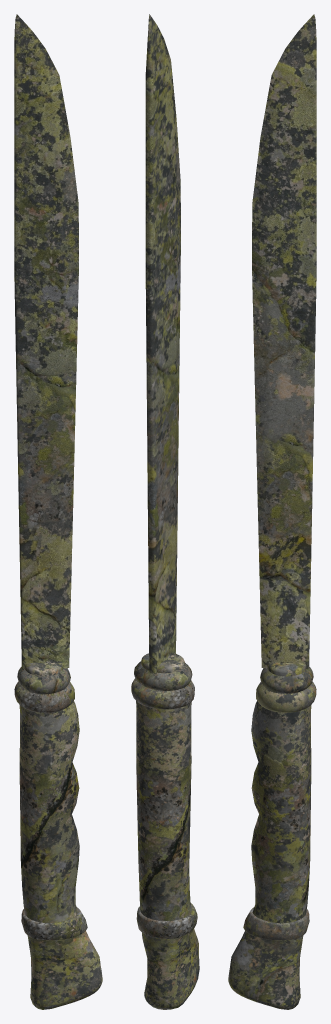
File: machete.gltf
3 renders of one model, left to right at view 1: azimuth 90°, elevation 25°; view 2: azimuth 150°, elevation 25°; view 3: azimuth 270°, elevation 25°, orthographic.
Parts seen in each view (by area): view 1: machete; view 2: machete; view 3: machete.
Boxes of the visible parts, left/top/right/bottom form: machete: left=14, top=14, right=102, bottom=1009; machete: left=131, top=14, right=199, bottom=1009; machete: left=228, top=14, right=316, bottom=1009.
Bounding box in the file's own units: 0.0444 × 0.7548 × 0.0611.
